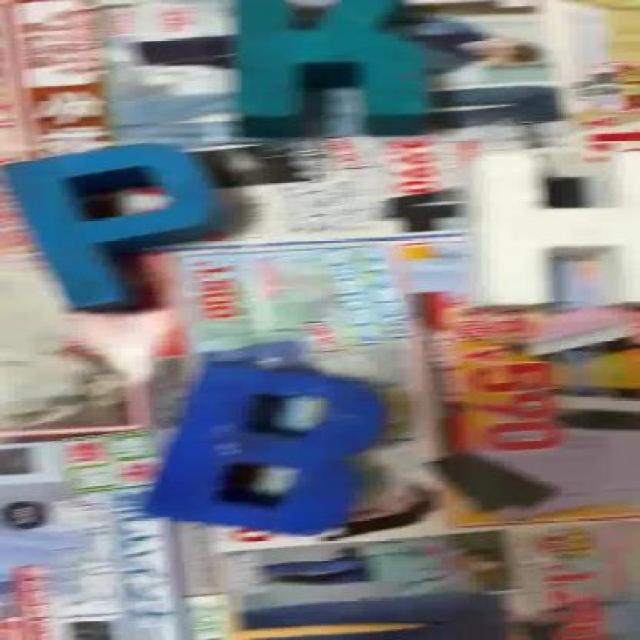B: (155, 361, 374, 534)
K: (238, 3, 440, 140)
P: (11, 142, 215, 307)
